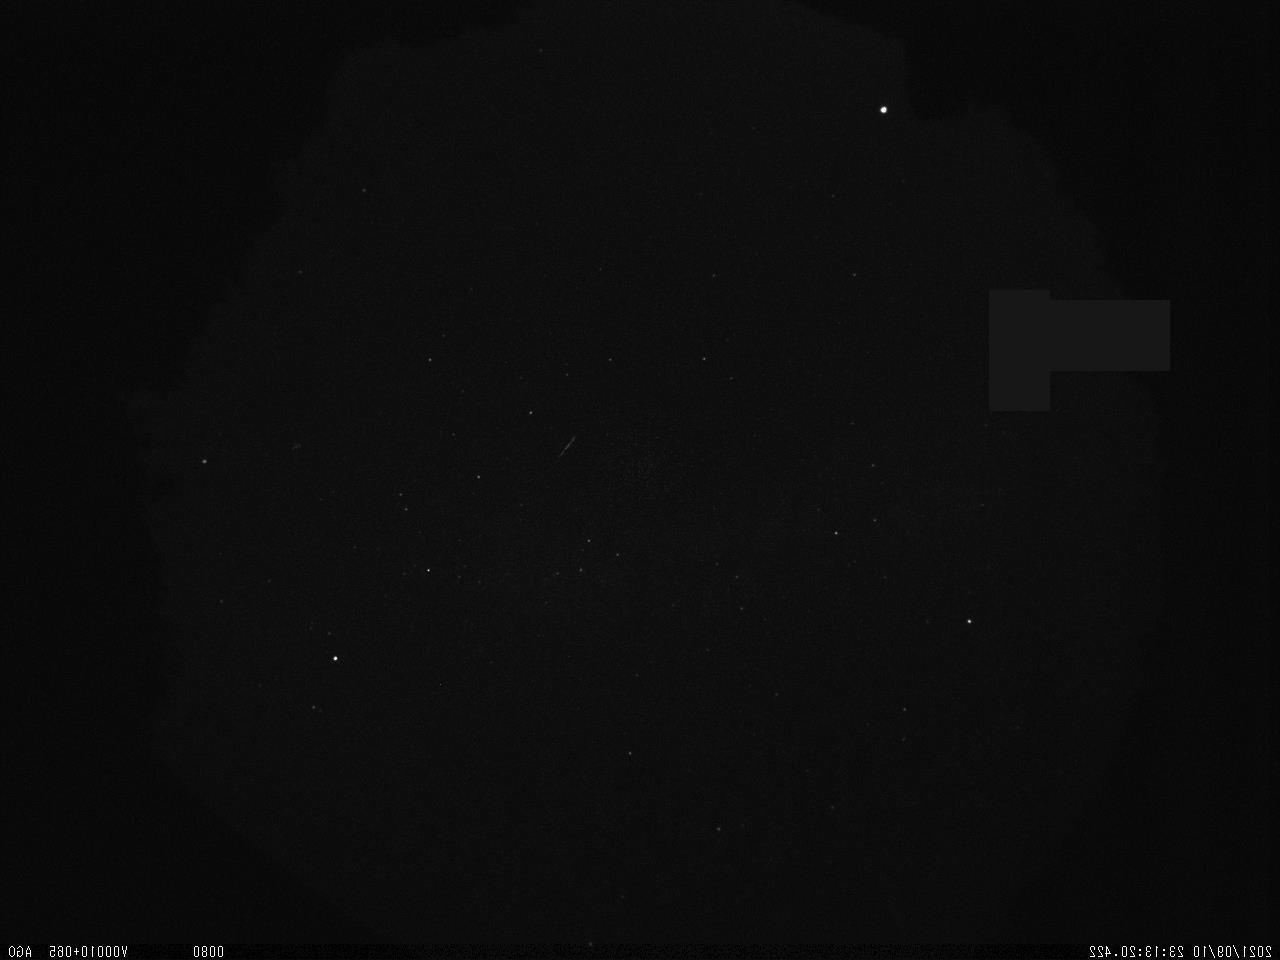meteor: (545, 423, 593, 468)
